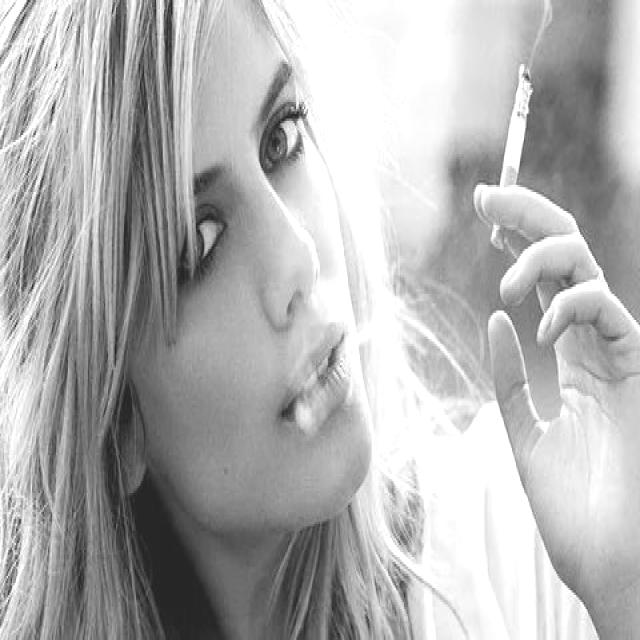smoke: (485, 57, 535, 256)
